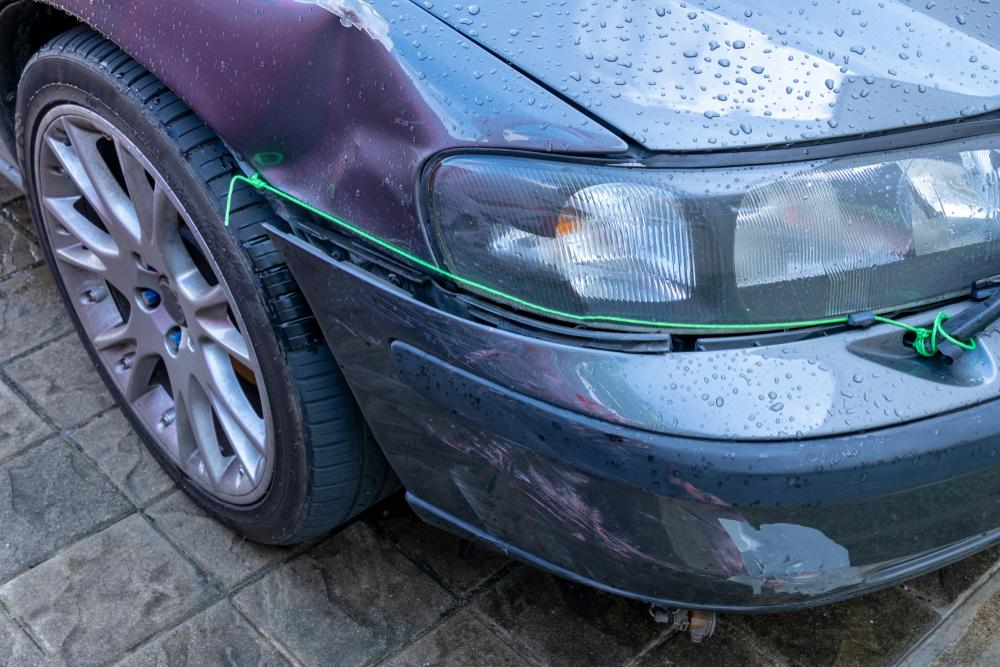dent: (227, 8, 443, 201)
scratch: (433, 347, 866, 599)
